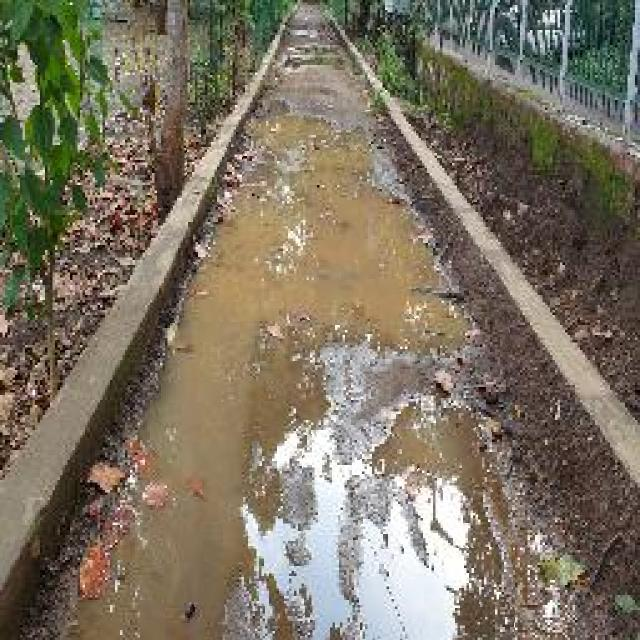puddle: (152, 111, 513, 640)
